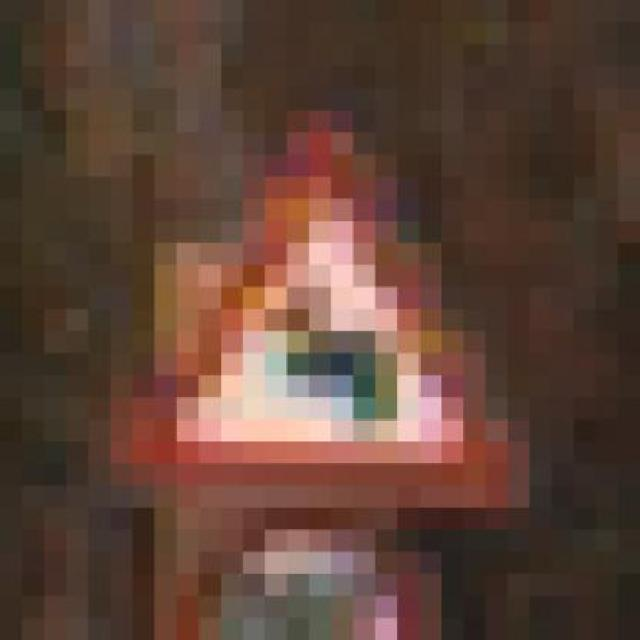Left Zig Zag Traffic: (66, 110, 574, 552)
